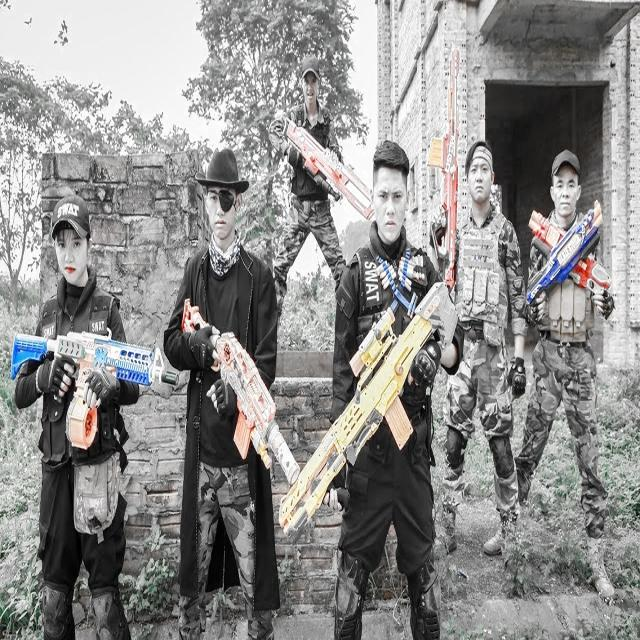Nerf gun: (274, 275, 468, 537), (4, 318, 182, 464), (176, 286, 300, 489), (514, 190, 620, 313), (275, 106, 378, 221), (424, 41, 466, 286)
